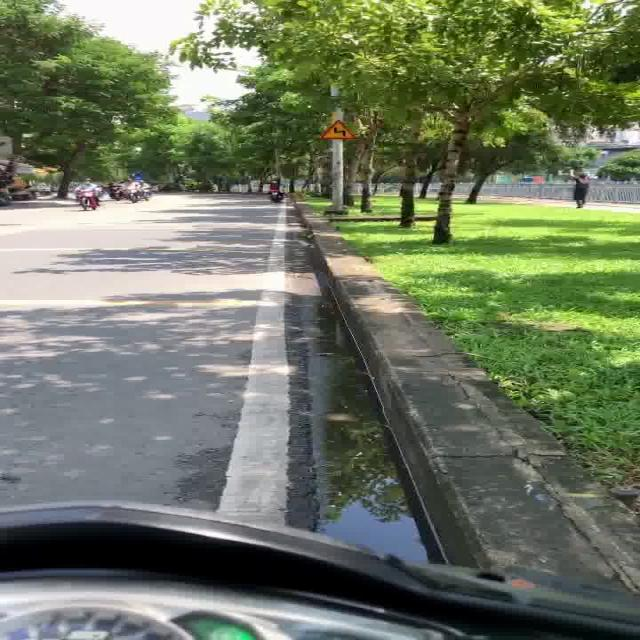Bien bao nhieu cho ngoat nguy hiem lien tiep: (316, 117, 364, 143)
